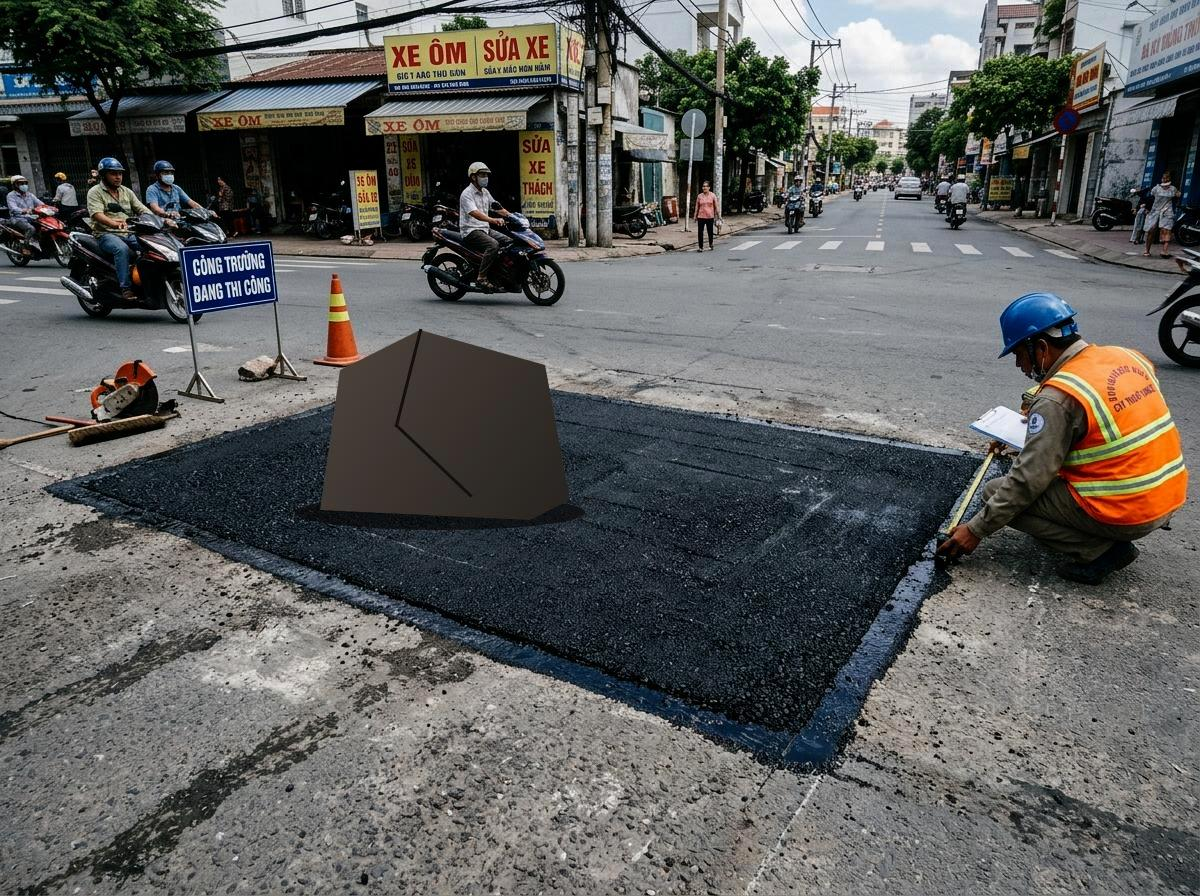ROAD_OBSTACLE: (300, 320, 580, 530)
